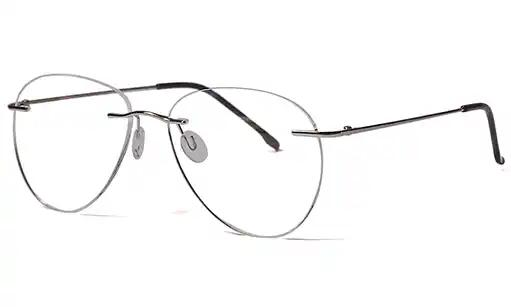spectacles: (7, 67, 328, 244)
